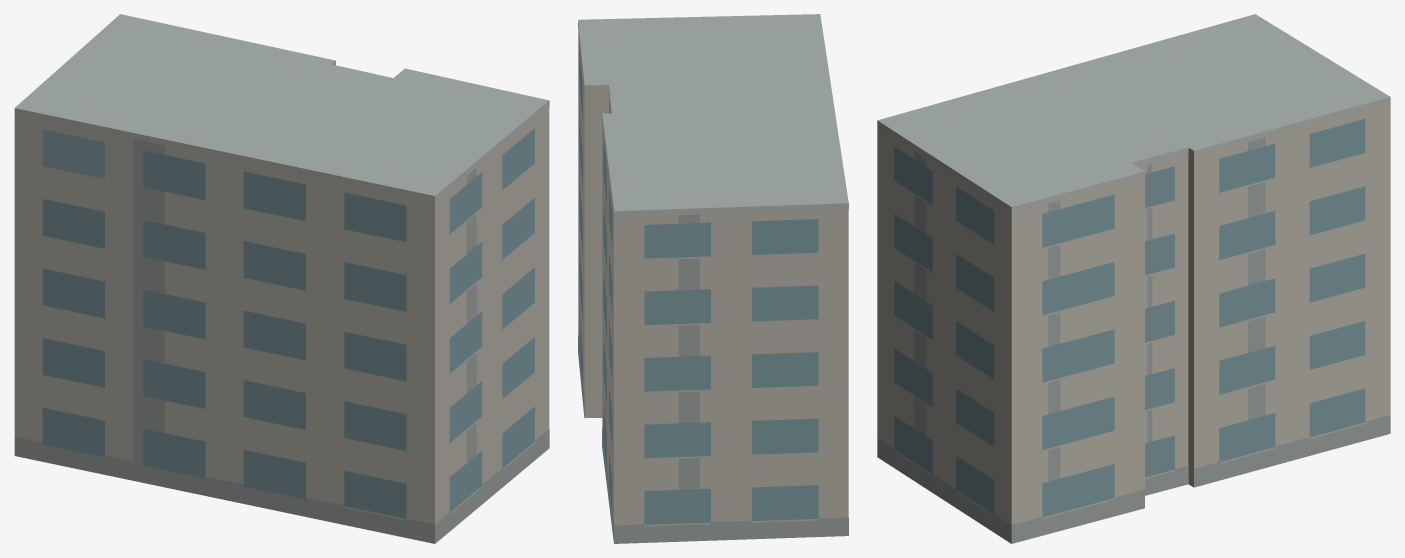
File: survey-upis-32680002.glb
3 views of the same model, side by side, from view 1: azimuth 30°, elevation 25°; view 2: azimuth 150°, elevation 25°; view 3: azimuth 270°, elevation 25° (orthographic). The views are drawn at different scales.
Parts seen in each view (by area): view 1: survey-upis-32680002.tmp; view 2: survey-upis-32680002.tmp; view 3: survey-upis-32680002.tmp.
Boxes of the visible parts, x1,y1,x2,y2 form: survey-upis-32680002.tmp: [14, 14, 549, 543]; survey-upis-32680002.tmp: [578, 14, 848, 543]; survey-upis-32680002.tmp: [877, 14, 1390, 543].
Size of the model in its own units: 16.31 by 13.25 by 18.32.
